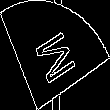M_SW: (30, 22, 80, 88)
